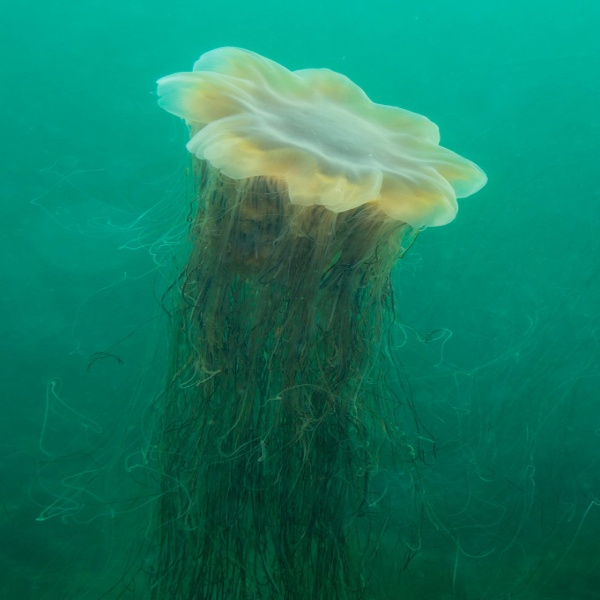Jellyfish: (107, 55, 499, 539)
